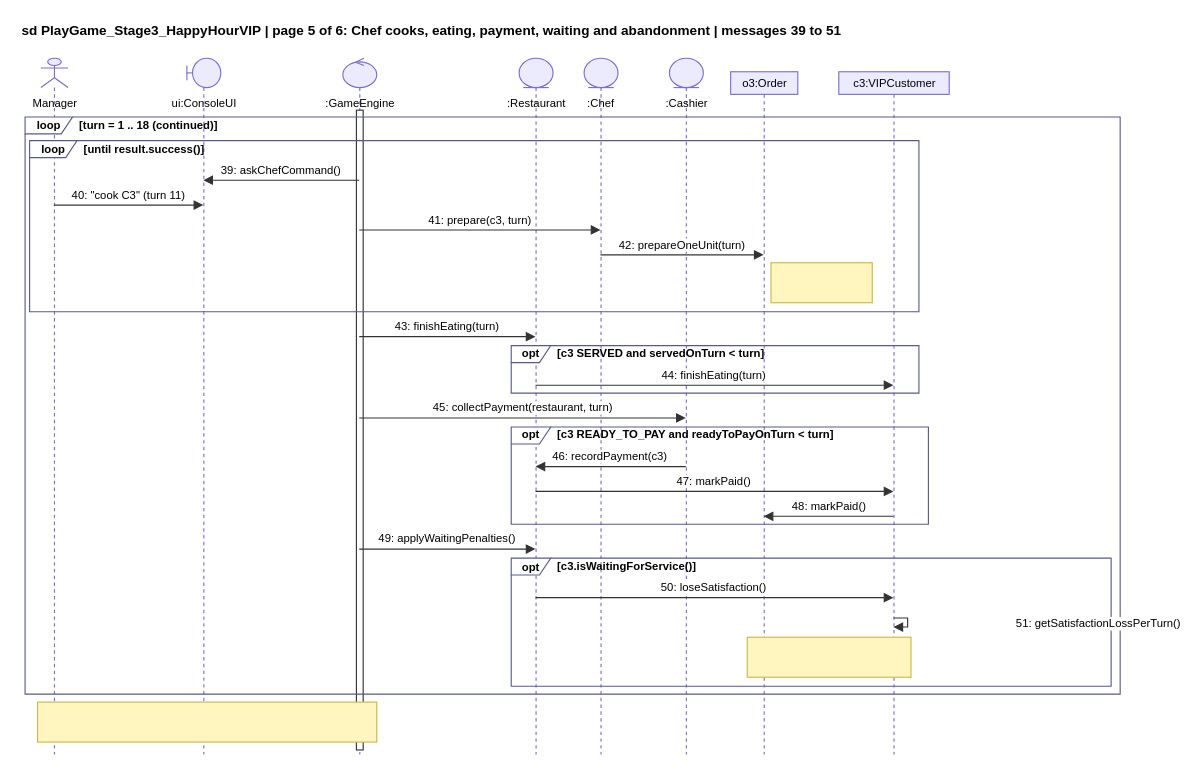
This 1200x774 diagram has some shape labels left out. Here are the shapes that lost their labels. From the top down, the centre of each, then its label:
At pixel 821 282: "1/1 unit done: READY (turn 11)".
At pixel 828 656: "POLYMORPHISM (Stage 2): VIP loses 5 per waiting turn".
At pixel 206 721: "the turn loop ends after turn 18; result check on page 6".
